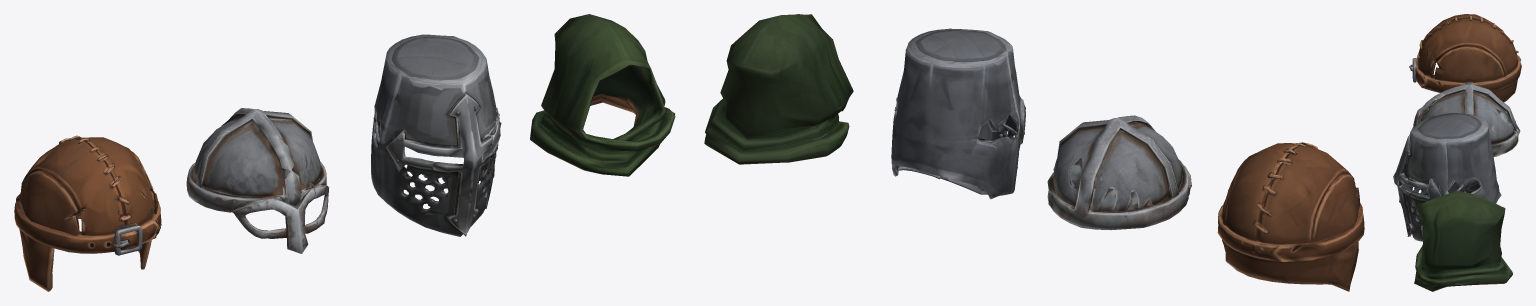
File: helms.glb
The picture shows the model from 3 angles, left to right: view 1: azimuth 30°, elevation 25°; view 2: azimuth 150°, elevation 25°; view 3: azimuth 270°, elevation 25°; orthographic projection. The views are drawn at different scales.
Bounding box in the file's own units: 0.9526 × 0.2471 × 0.2383.
1 material, 1 textured.
